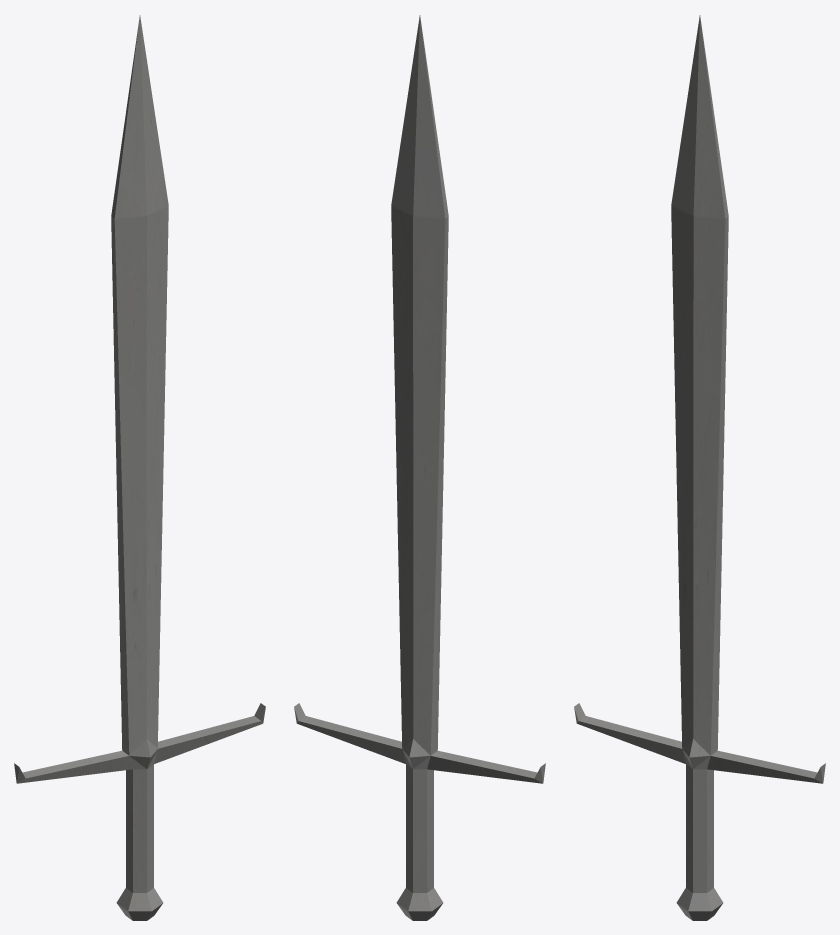
File: mainSword1.fbx
The picture shows the model from 3 angles, left to right: view 1: azimuth 30°, elevation 25°; view 2: azimuth 150°, elevation 25°; view 3: azimuth 330°, elevation 25°; orthographic projection.
Visible parts, largest first — view 1: Cylinder; view 2: Cylinder; view 3: Cylinder.
Boxes of the visible parts, x1,y1,x2,y2 form: Cylinder: [14, 15, 265, 920]; Cylinder: [294, 15, 545, 920]; Cylinder: [574, 15, 825, 920].
Bounding box in the file's own units: 2012 × 7031 × 333.
